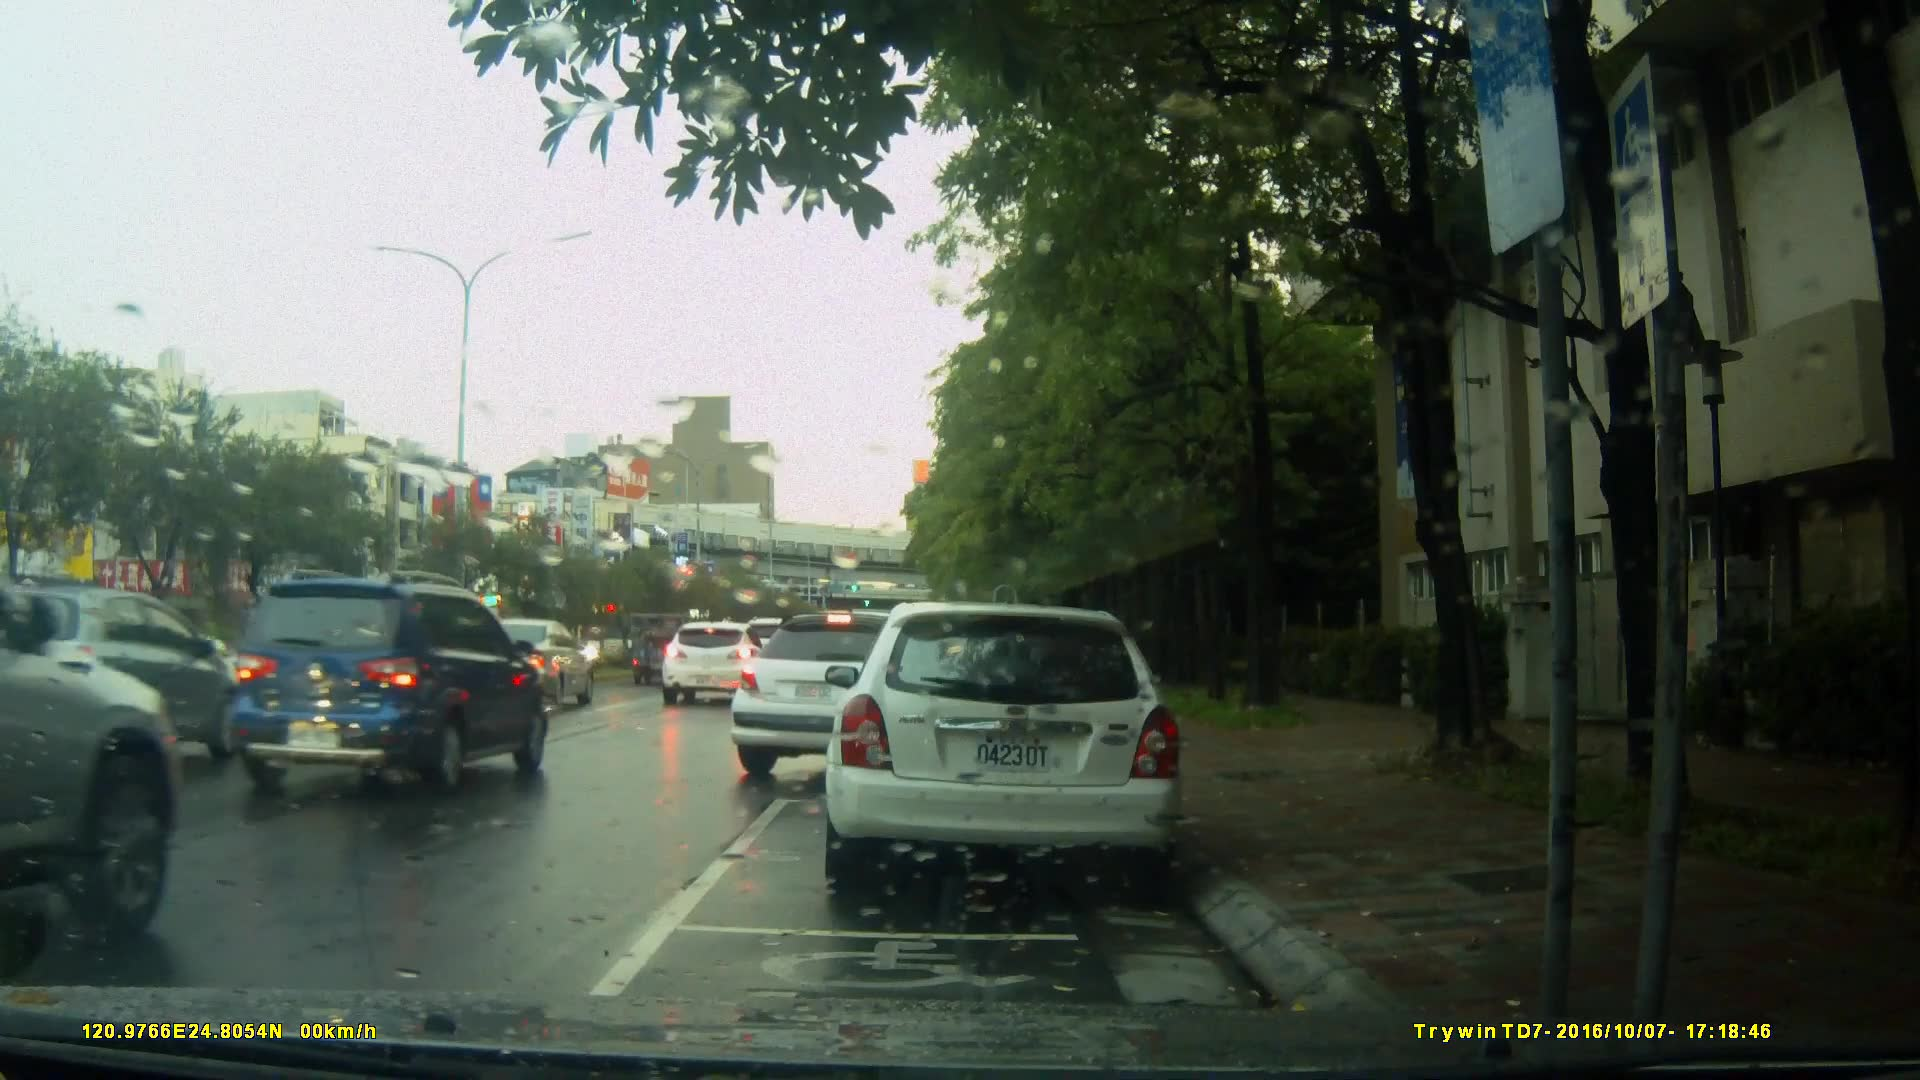vehicle: (820, 603, 1188, 898), (1, 481, 190, 981), (223, 567, 553, 796), (727, 611, 1013, 789), (22, 584, 287, 746), (451, 617, 603, 713), (659, 618, 765, 708)
